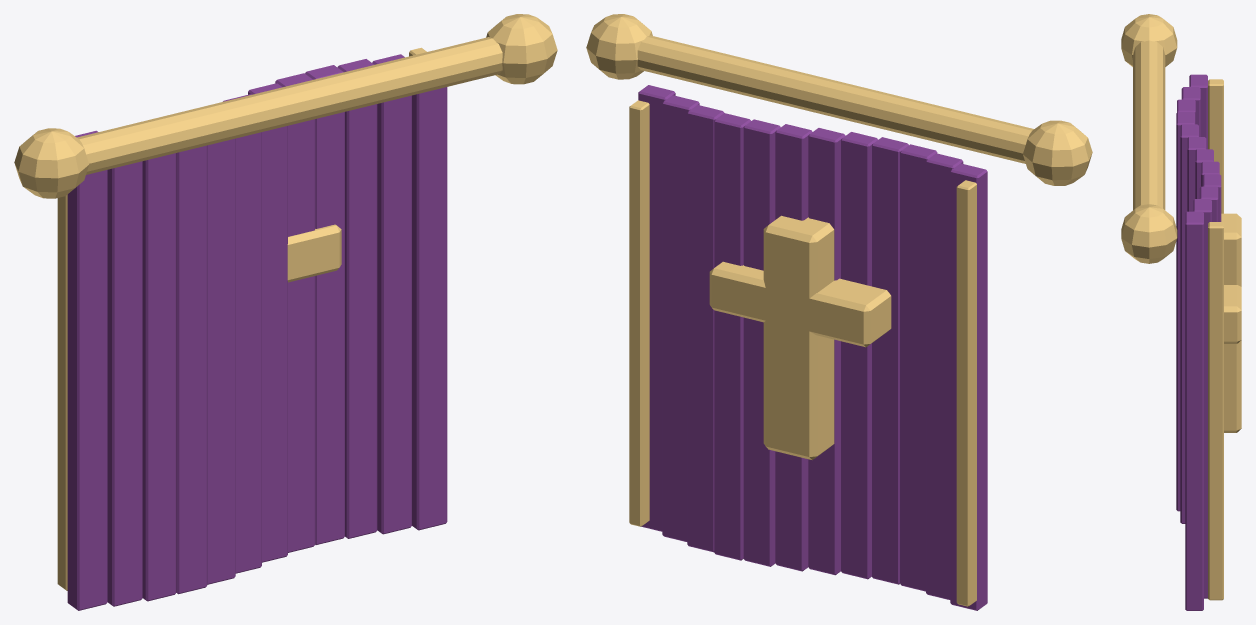
Rendered from crypt_heraldic_banner.glb.
3 renders of one model, left to right at view 1: azimuth 30°, elevation 25°; view 2: azimuth 150°, elevation 25°; view 3: azimuth 270°, elevation 25°, orthographic. The views are drawn at different scales.
Size of the model in its own units: 0.96 by 0.875 by 0.2253.
